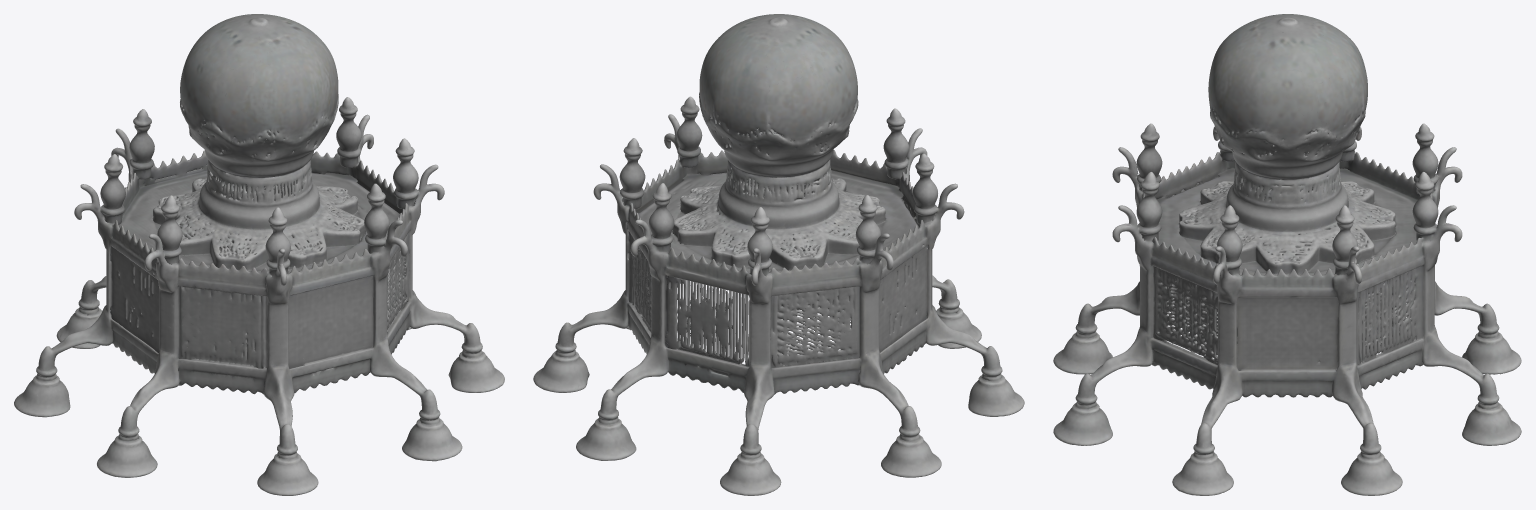
File: 10_artifact_symtrellis.glb
The picture shows the model from 3 angles, left to right: view 1: azimuth 30°, elevation 25°; view 2: azimuth 150°, elevation 25°; view 3: azimuth 270°, elevation 25°; orthographic projection.
Visible parts, largest first — view 1: world; view 2: world; view 3: world.
Part boxes in pixels (x1,y1,x2,y2): world: [14, 14, 504, 495]; world: [533, 14, 1024, 495]; world: [1053, 14, 1521, 495].
Bounding box in the file's own units: 0.9667 × 0.8614 × 0.9667.
Materials: 1 (1 with a texture image).
